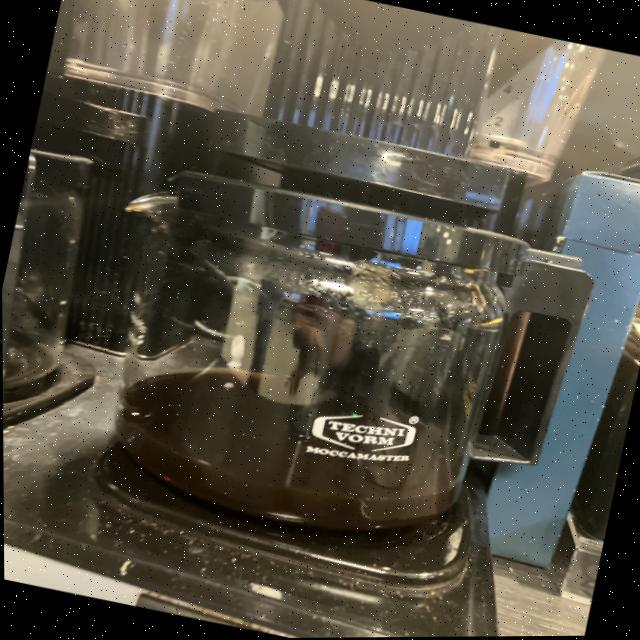nocoffee: (1, 132, 110, 438)
